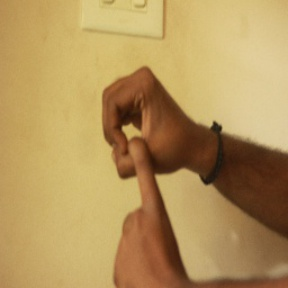Q: (95, 61, 196, 288)
